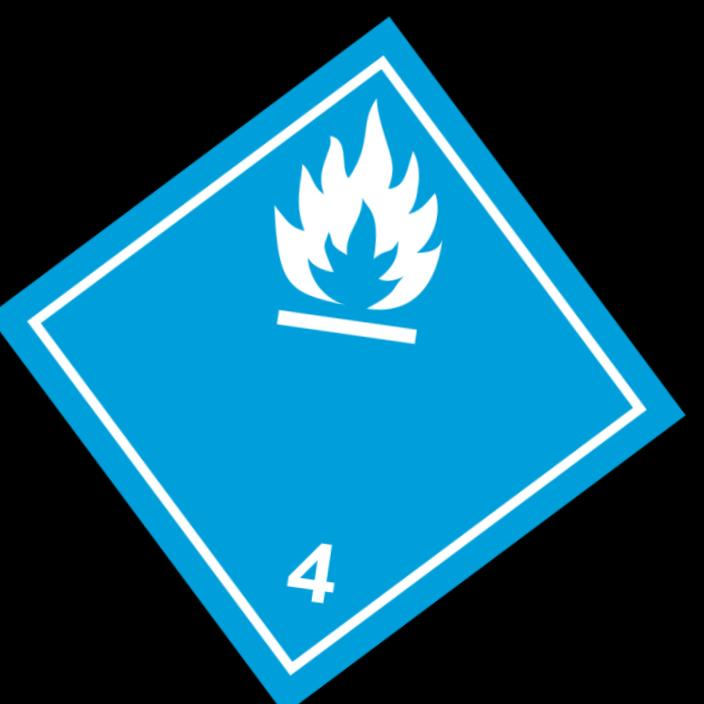clock: (0, 17, 684, 704)
